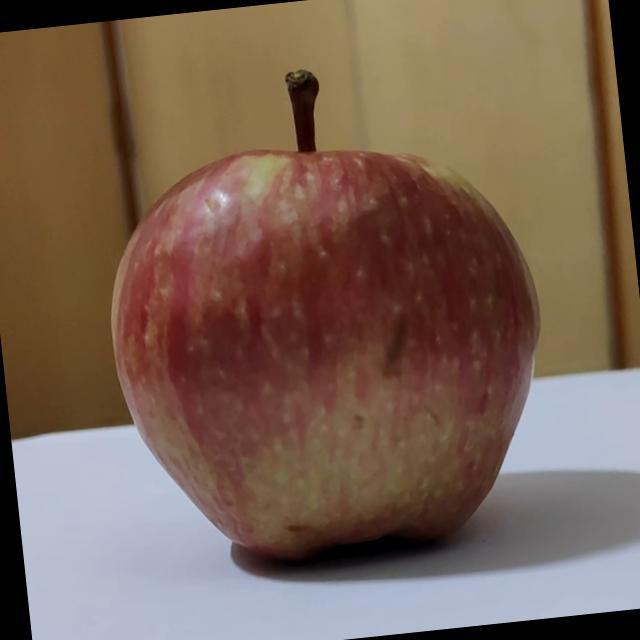apple: (81, 36, 574, 578)
